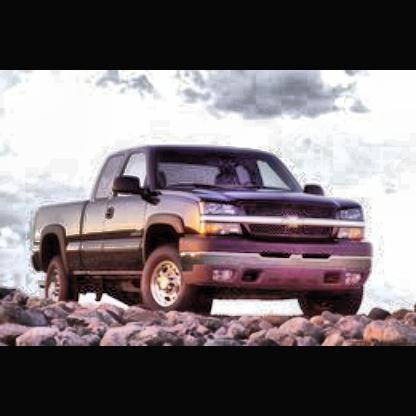Chevrolet Silverado 1500 Classic Extended Cab 2007: (28, 147, 375, 316)
